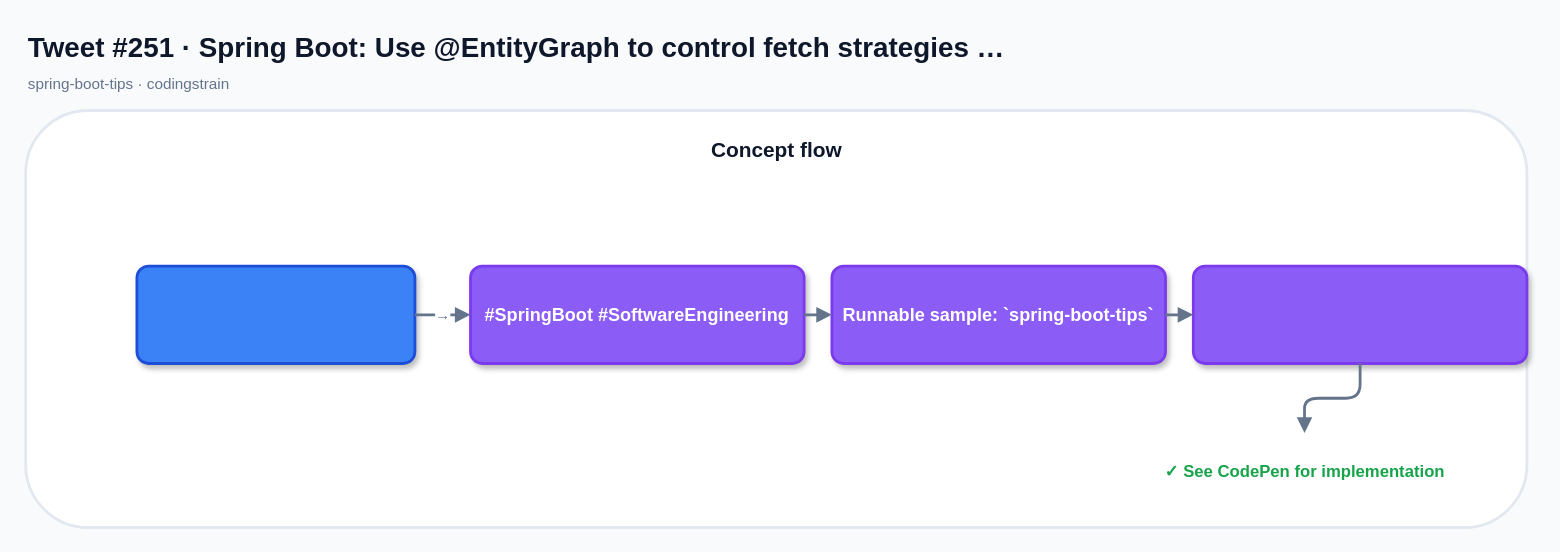
Image size: 1560x552. Some labels were removed from this diagram. The centre of each missing label's shape, as x and y in pixels:
Architecture diagram + Carbon CodePen below: [1361,316]
Problem / context: [276,316]
